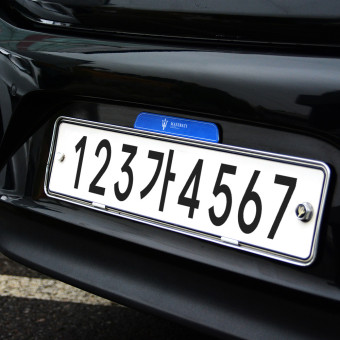car: (39, 109, 332, 270)
